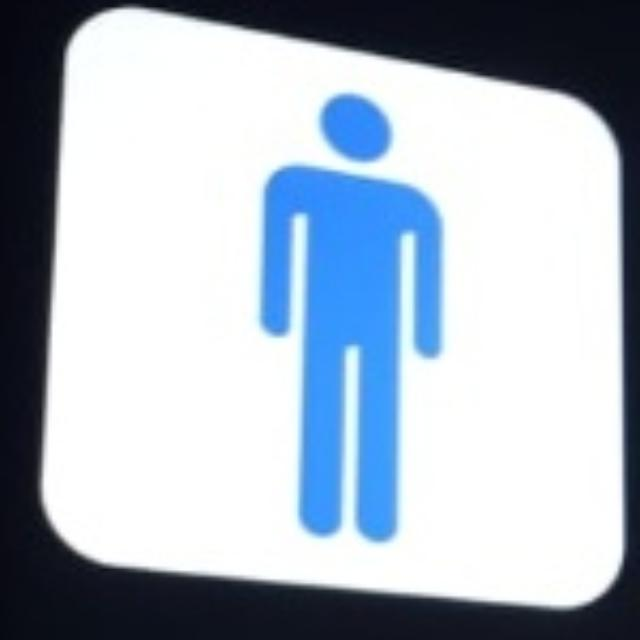wc nam: (43, 9, 619, 606)
